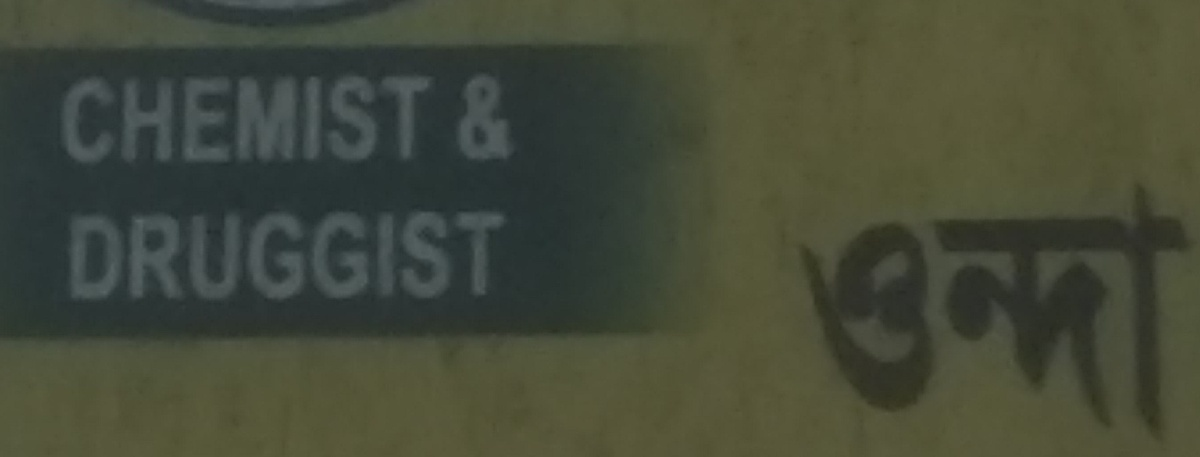text: (801, 177, 816, 451), (817, 177, 832, 451), (833, 177, 848, 451), (849, 177, 864, 451), (865, 177, 880, 451), (881, 177, 896, 451), (897, 177, 912, 451), (913, 177, 928, 451), (929, 177, 944, 451), (945, 177, 960, 451), (961, 177, 976, 451), (977, 177, 992, 451), (993, 177, 1008, 451), (1009, 177, 1024, 451), (1025, 177, 1040, 451), (1041, 177, 1056, 451), (1057, 177, 1072, 451), (1073, 177, 1088, 451), (1089, 177, 1104, 451), (1105, 177, 1120, 451), (1121, 177, 1136, 451), (1137, 177, 1152, 451), (1153, 177, 1168, 451), (1169, 177, 1184, 451), (1185, 177, 1195, 451), (792, 177, 800, 451), (65, 210, 80, 306), (81, 210, 96, 306), (97, 210, 112, 306), (113, 210, 128, 306), (129, 210, 144, 306), (145, 210, 160, 306), (161, 210, 176, 306), (177, 210, 192, 306), (193, 210, 208, 306), (209, 210, 224, 306), (225, 210, 240, 306), (241, 210, 256, 306), (257, 210, 272, 306), (273, 210, 288, 306), (289, 210, 304, 306), (305, 210, 320, 306), (321, 210, 336, 306), (337, 210, 352, 306), (353, 210, 368, 306), (369, 210, 384, 306), (385, 210, 400, 306), (401, 210, 416, 306), (417, 210, 432, 306), (433, 210, 448, 306), (449, 210, 464, 306), (465, 210, 480, 306), (481, 210, 496, 306), (65, 74, 80, 169), (81, 74, 96, 169), (97, 74, 112, 169), (113, 74, 128, 169), (129, 74, 144, 169), (145, 74, 160, 169), (161, 74, 176, 169), (177, 74, 192, 169), (193, 74, 208, 169), (209, 74, 224, 169), (225, 74, 240, 169), (241, 74, 256, 169), (257, 74, 272, 169), (273, 74, 288, 169), (289, 74, 304, 169), (305, 74, 320, 169), (321, 74, 336, 169), (337, 74, 352, 169), (353, 74, 368, 169), (369, 74, 384, 169), (385, 74, 400, 169), (401, 74, 416, 169), (417, 74, 432, 169), (465, 73, 480, 167), (481, 73, 496, 167), (497, 73, 512, 167), (497, 210, 511, 306), (433, 74, 440, 169), (457, 73, 464, 167), (513, 73, 519, 167), (59, 74, 64, 169)
